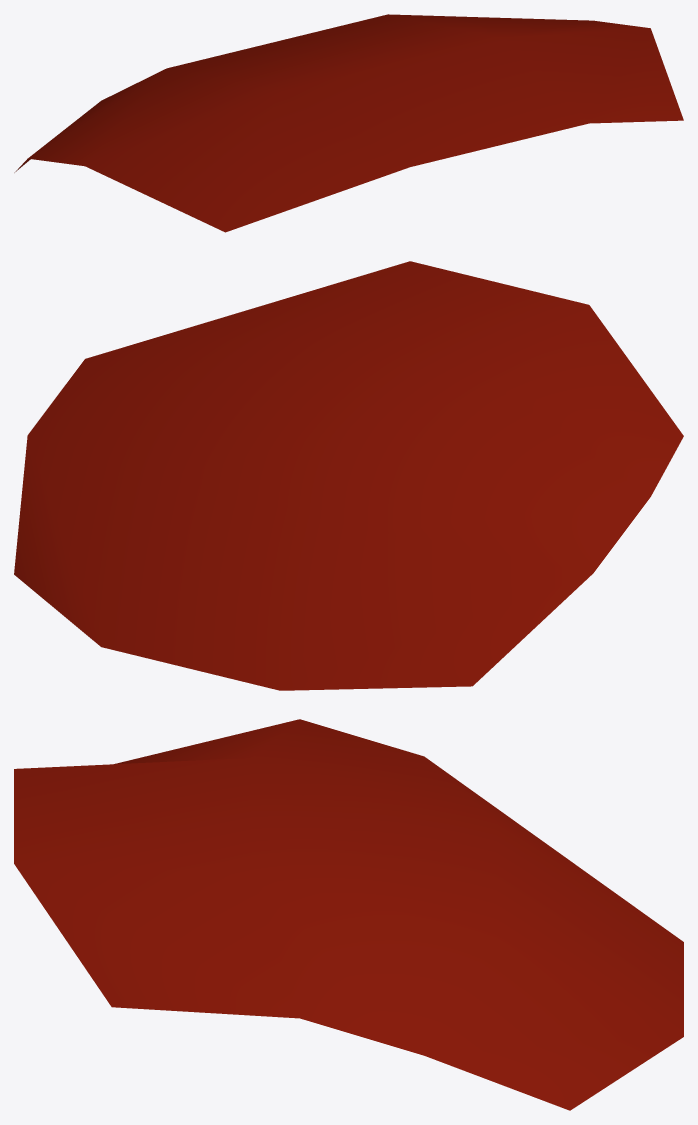
The model's file is CoralString_Test.fbx.
The picture shows the model from 3 angles, top to bottom: view 1: azimuth 30°, elevation 25°; view 2: azimuth 150°, elevation 25°; view 3: azimuth 270°, elevation 25°; orthographic projection. The views are drawn at different scales.
Parts seen in each view (by area): view 1: pPlane139; view 2: pPlane139; view 3: pPlane139.
Boxes of the visible parts, left/top/right/bottom form: pPlane139: left=14, top=14, right=683, bottom=232; pPlane139: left=14, top=261, right=683, bottom=690; pPlane139: left=14, top=719, right=683, bottom=1110.
Size of the model in its own units: 105 by 28.4 by 99.58.
Materials: 1 (1 with a texture image).
